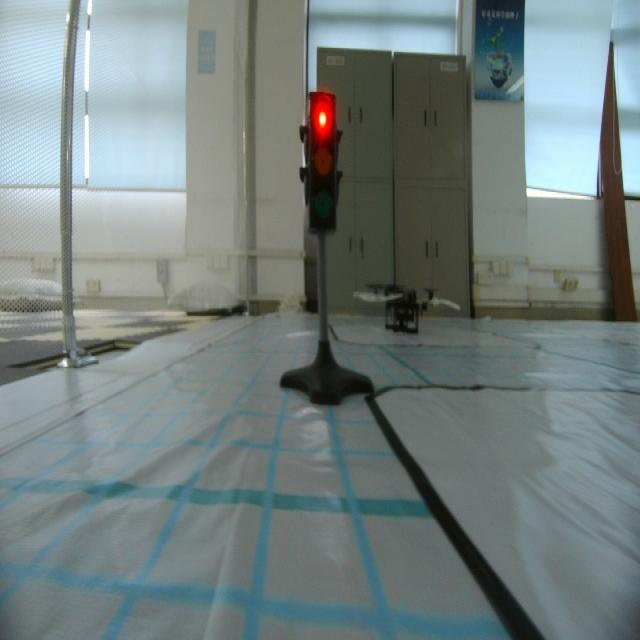red: (305, 87, 341, 238)
